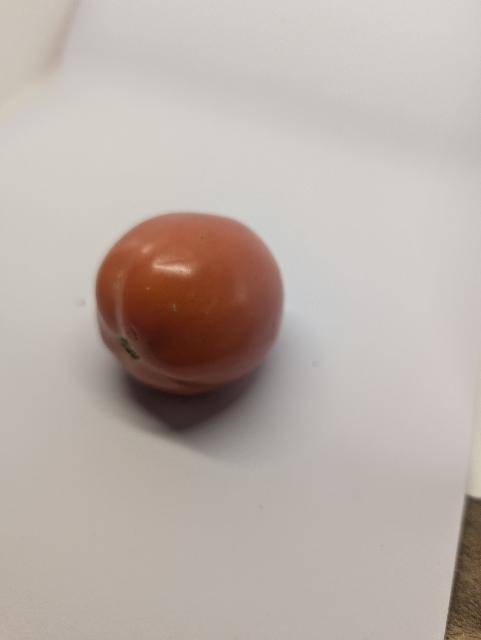red: (92, 208, 287, 394)
